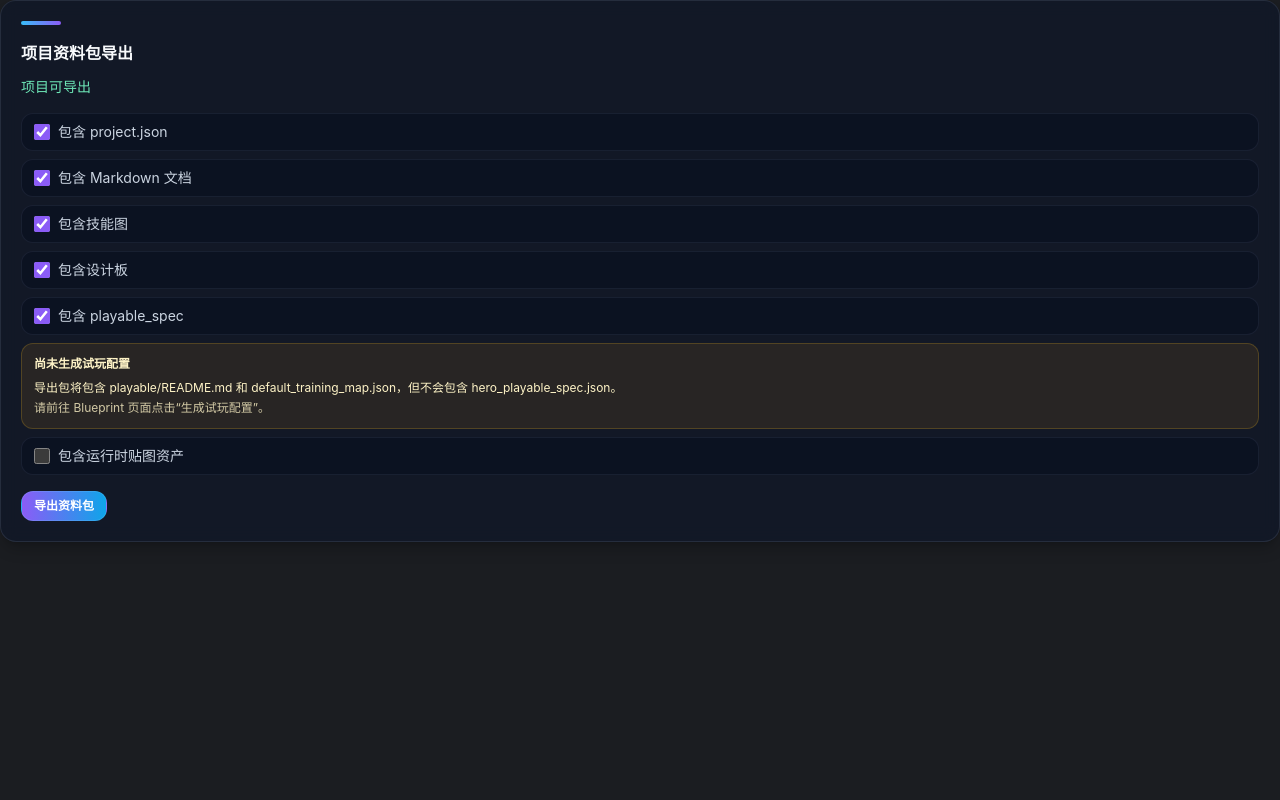
Scenario: ProjectExportPanel › shows runtime vfx ready hint when selected with generated assets
The width and height of the screenshot is (1280, 800).
Click the checkbox labelled "包含运行时贴图资产" at (42, 456), box 34,448 -> 50,464
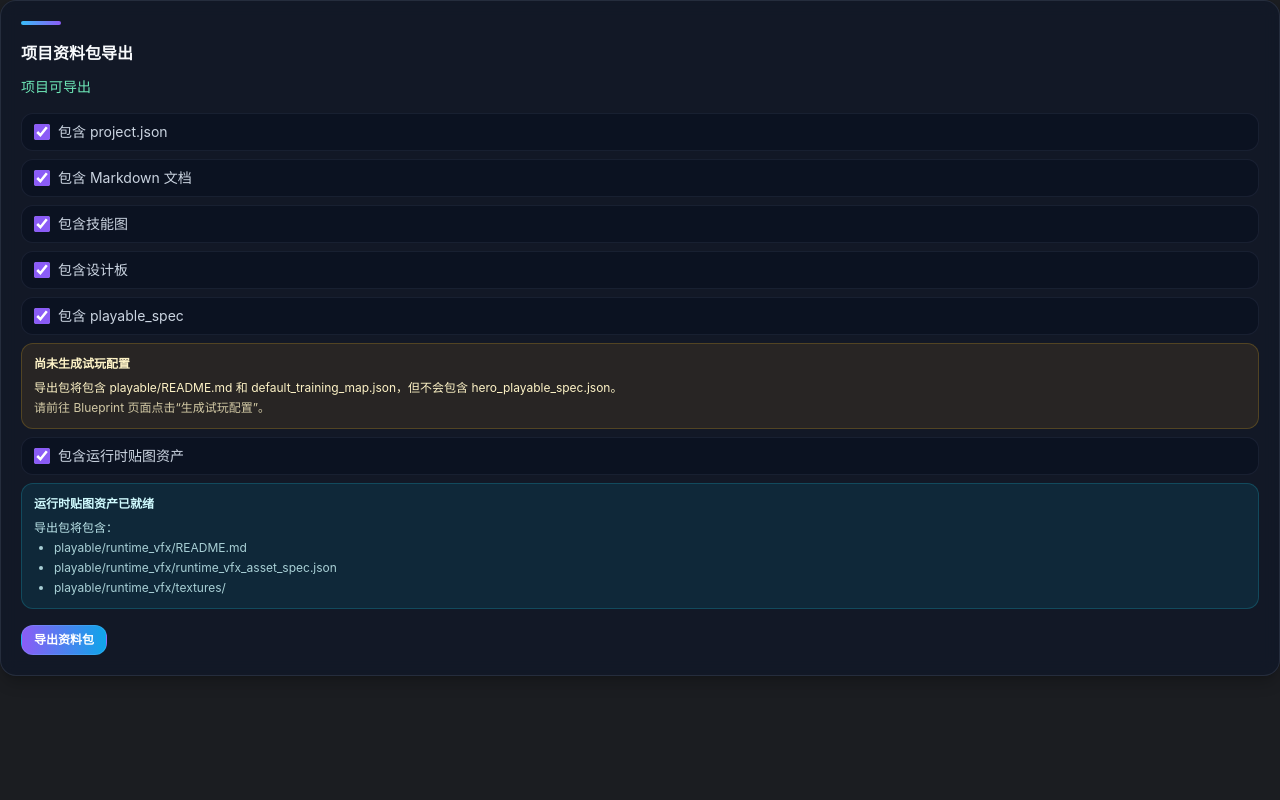
Expected: the list item "playable/runtime_vfx/runtime_vfx_asset_spec.json" is shown, 54,560 -> 337,575
